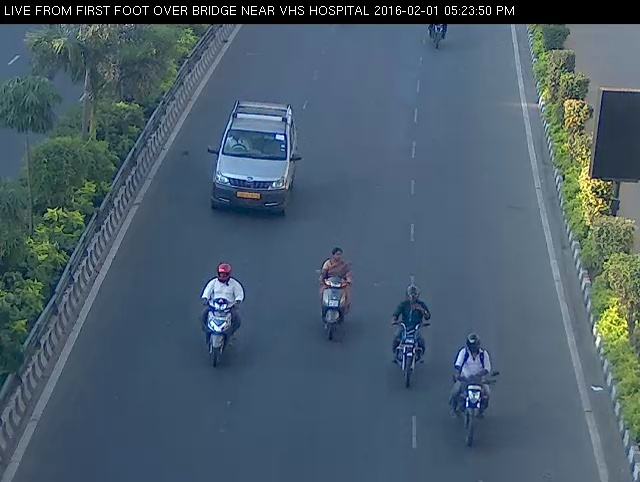Car: (191, 90, 315, 234)
Person: (185, 252, 252, 379), (449, 317, 501, 454), (308, 233, 359, 349), (387, 275, 433, 392), (422, 17, 457, 54)
